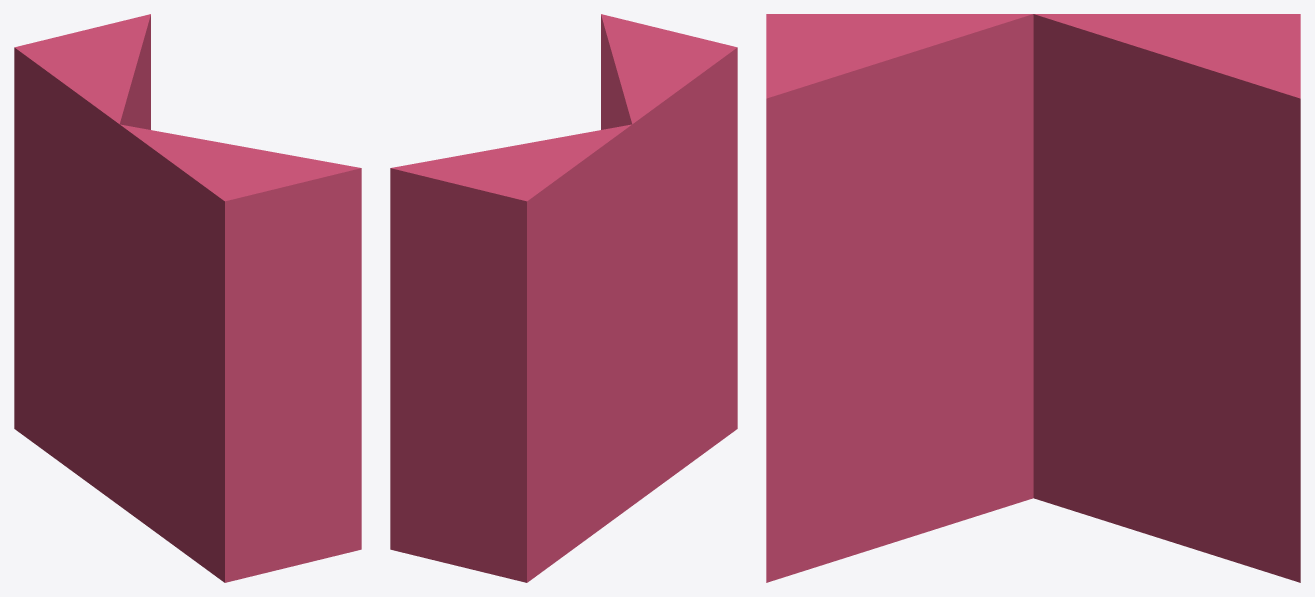
Rendered from r3c7_body_pink.gltf.
3 renders of one model, left to right at view 1: azimuth 30°, elevation 25°; view 2: azimuth 150°, elevation 25°; view 3: azimuth 270°, elevation 25°, orthographic. The views are drawn at different scales.
Parts seen in each view (by area): view 1: r3c7_body_pink; view 2: r3c7_body_pink; view 3: r3c7_body_pink.
Part boxes in pixels (x1,y1,x2,y2): r3c7_body_pink: (14,14,361,582); r3c7_body_pink: (390,14,737,582); r3c7_body_pink: (766,14,1300,582).
Size of what is drawn, in the model's own units: 0.75 by 2 by 2.
1 material, 1 textured.
